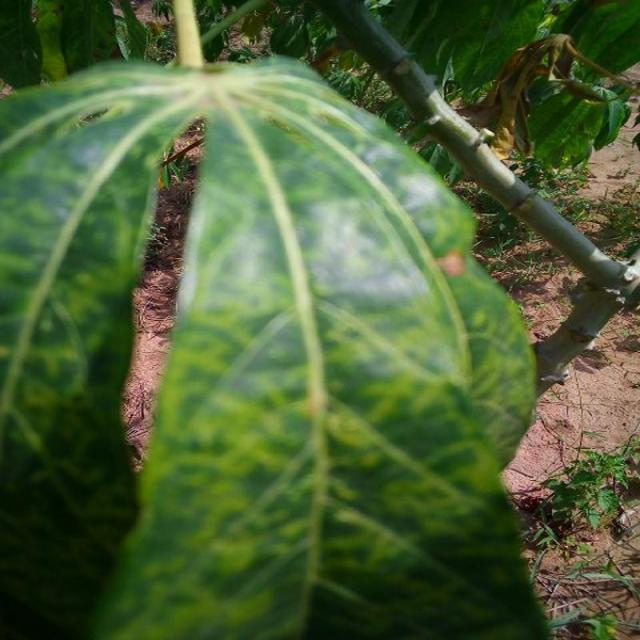cassava leaf: (1, 53, 554, 638)
